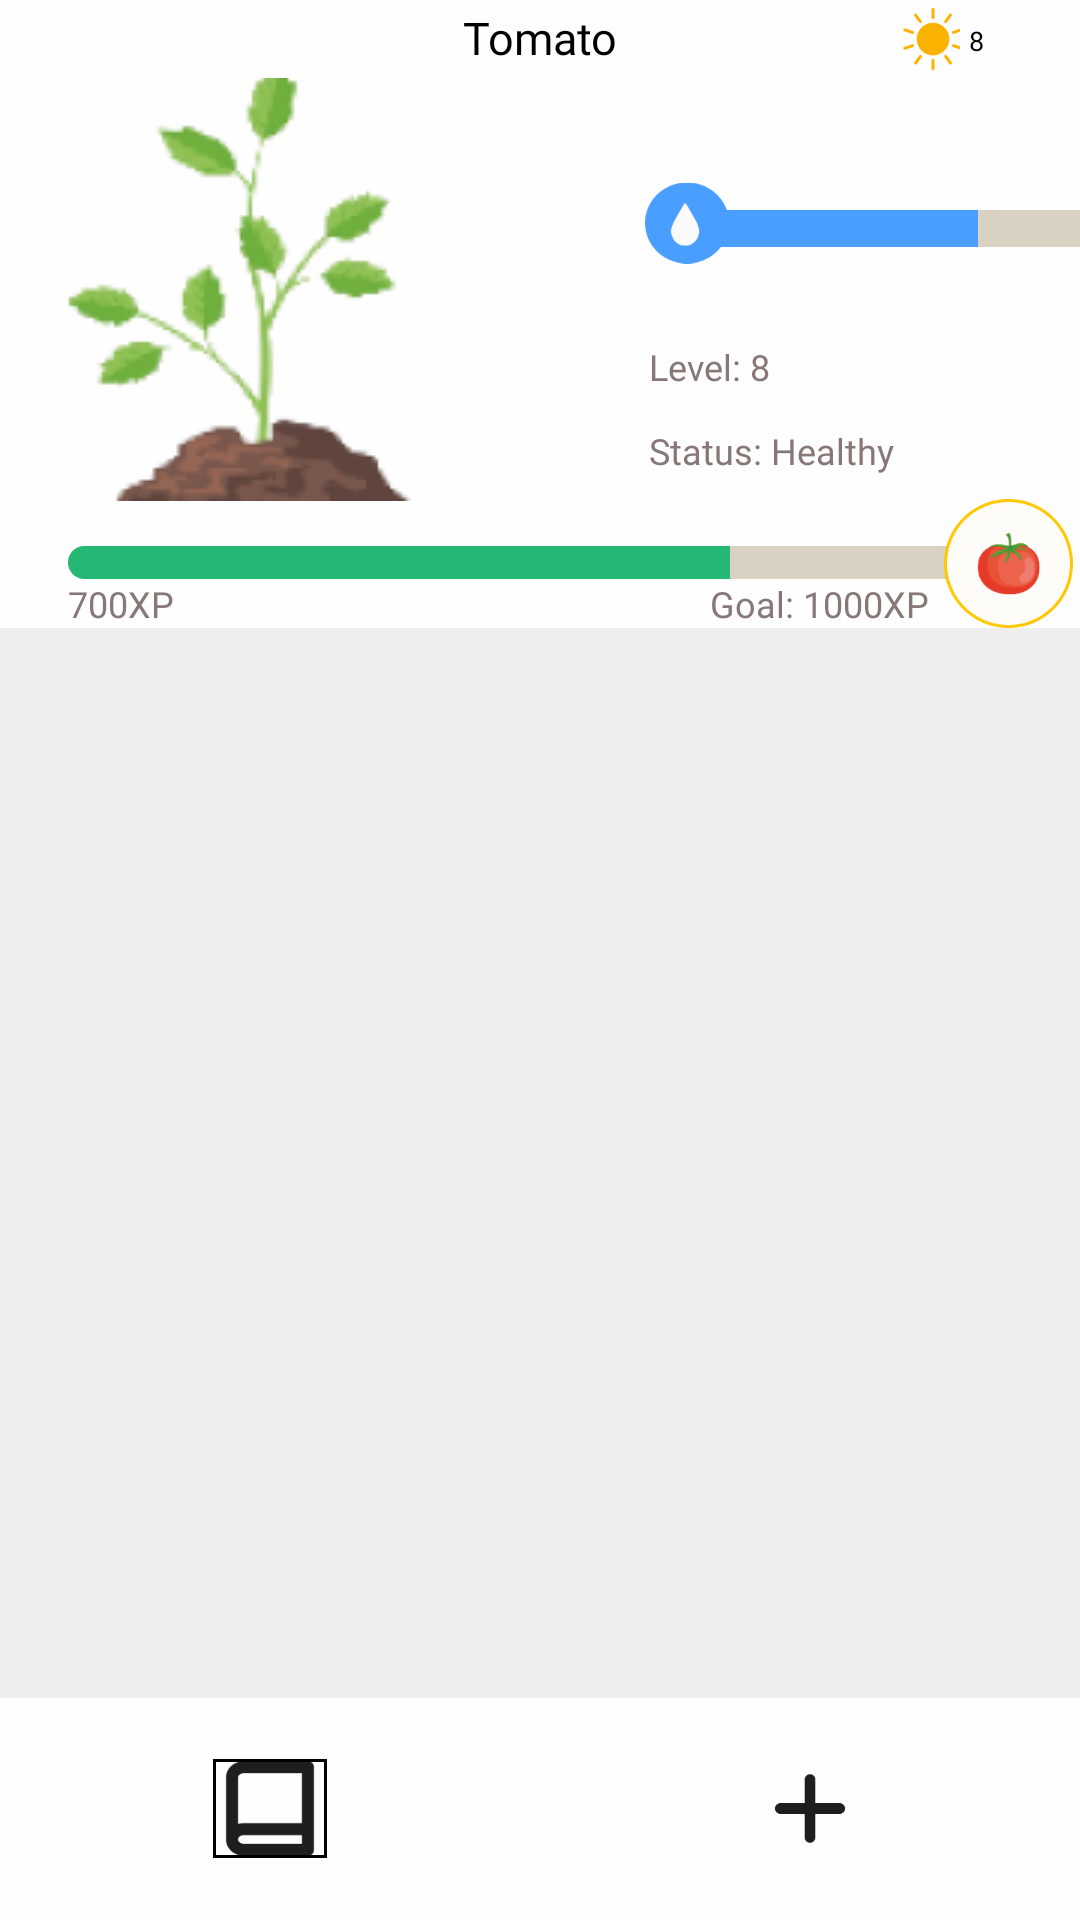

Where to tap for icons on this 1080x1920 app screen, as [x,y]:
add: [810,1808]
book: [270,1808]
fruit tomato: [1008,564]
sun: [931,39]
water: [687,223]
